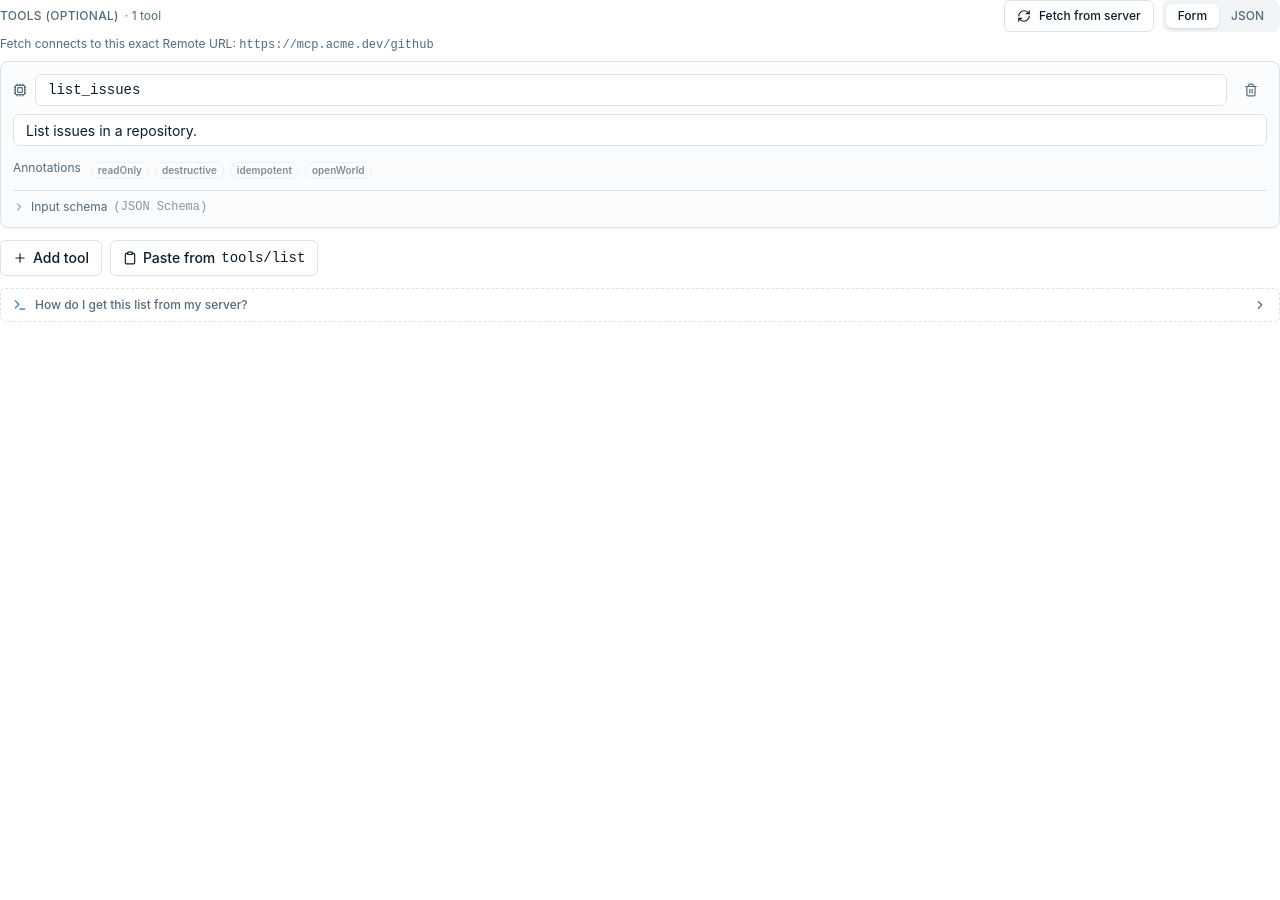
it: Fetch from server › shows why each attempt failed
Click the button "Fetch from server".
click(1079, 16)  # box x1=1004 y1=0 x2=1154 y2=32
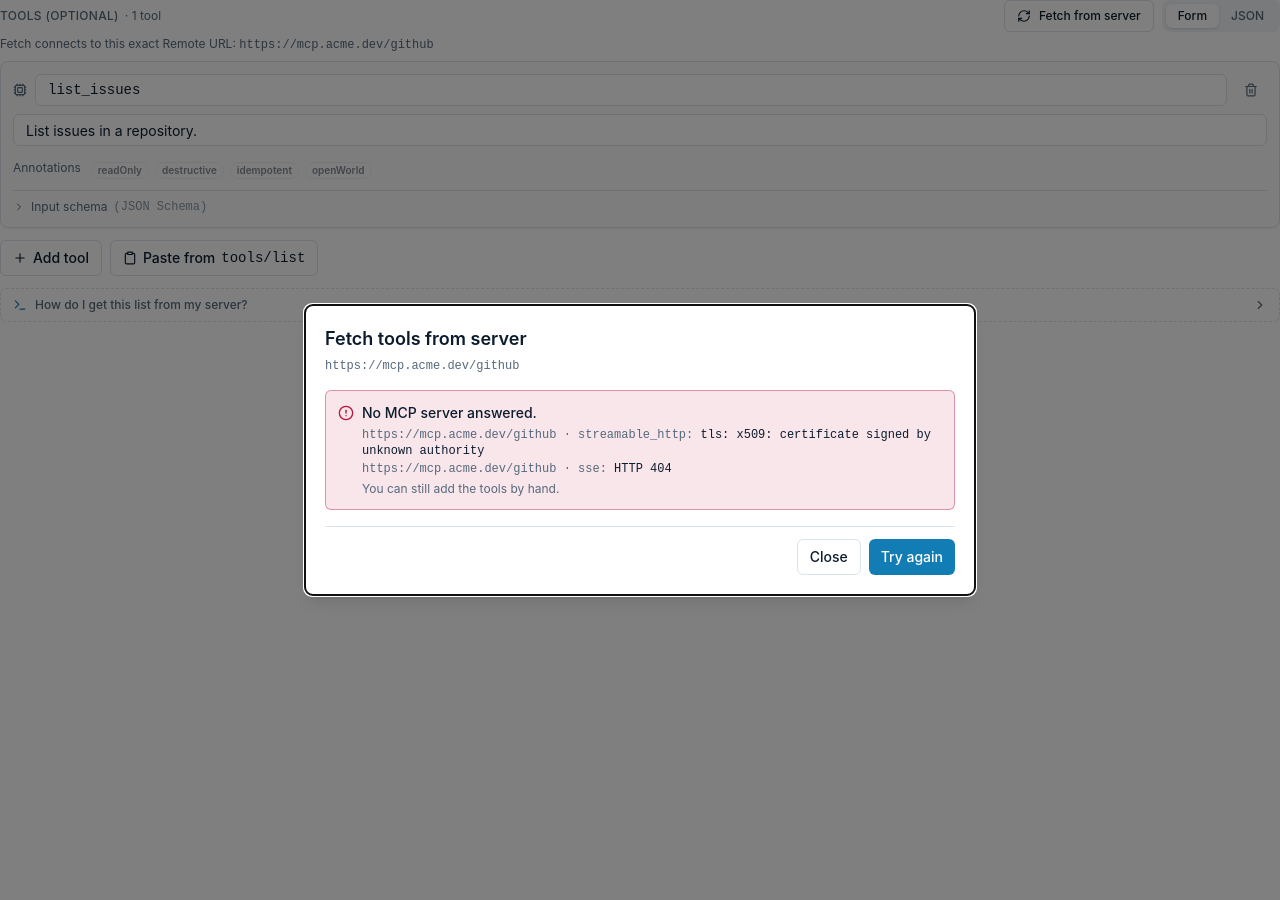
Now the message shows "No MCP server answered.", box x1=362 y1=404 x2=537 y2=421
Now the list items read "https://mcp.acme.dev/github · streamable_http: tls: x509: certificate signed by unknown authority", "https://mcp.acme.dev/github · sse: HTTP 404", in this order, box x1=362 y1=427 x2=942 y2=459; x1=362 y1=462 x2=672 y2=476
